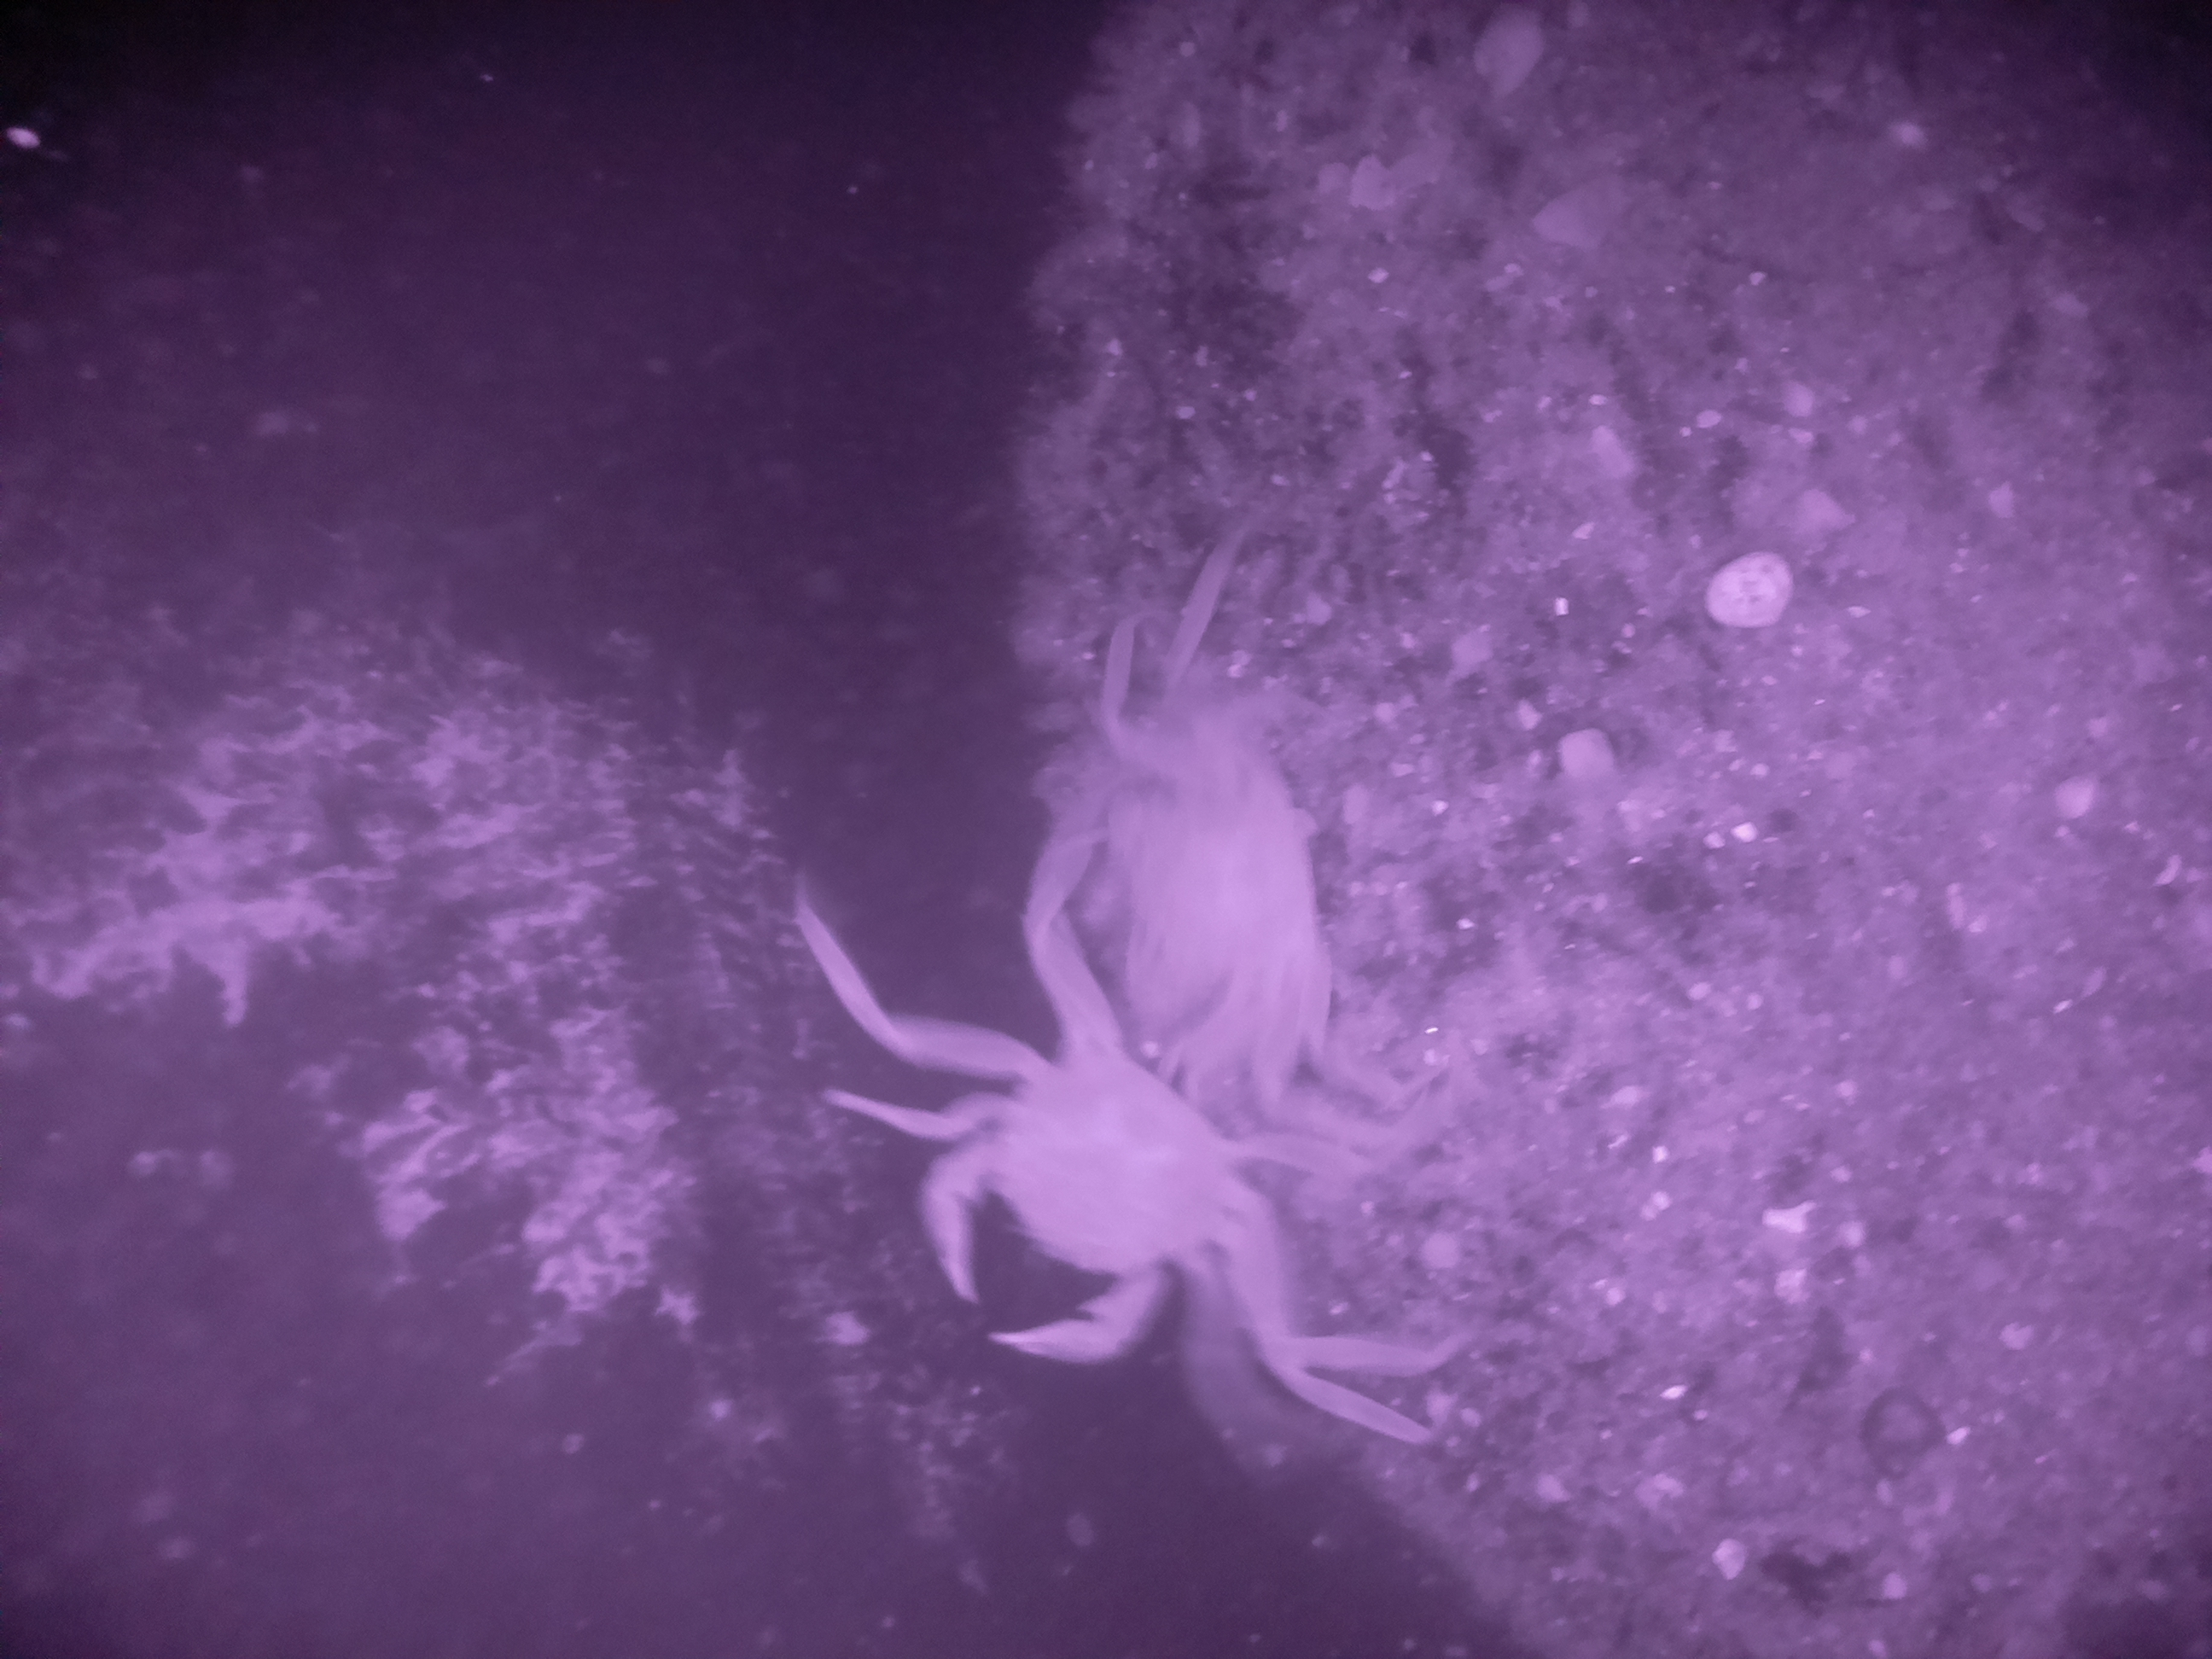Crab: (723, 964, 1400, 1427)
